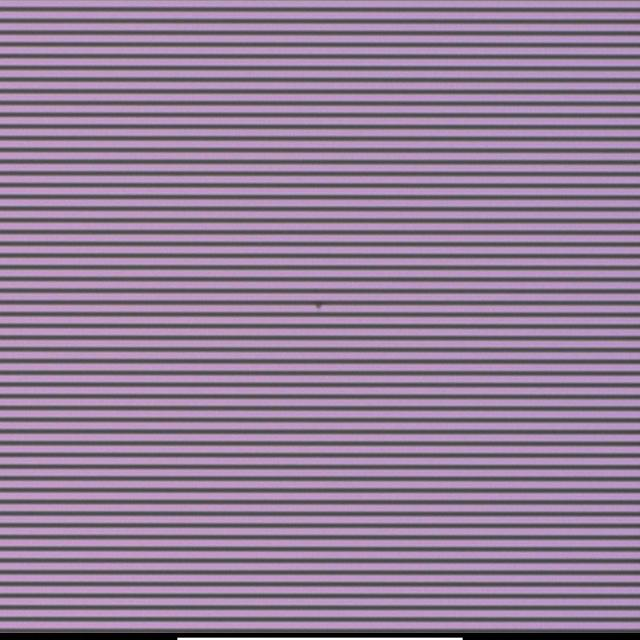03_intrusion: (314, 299, 325, 313)
